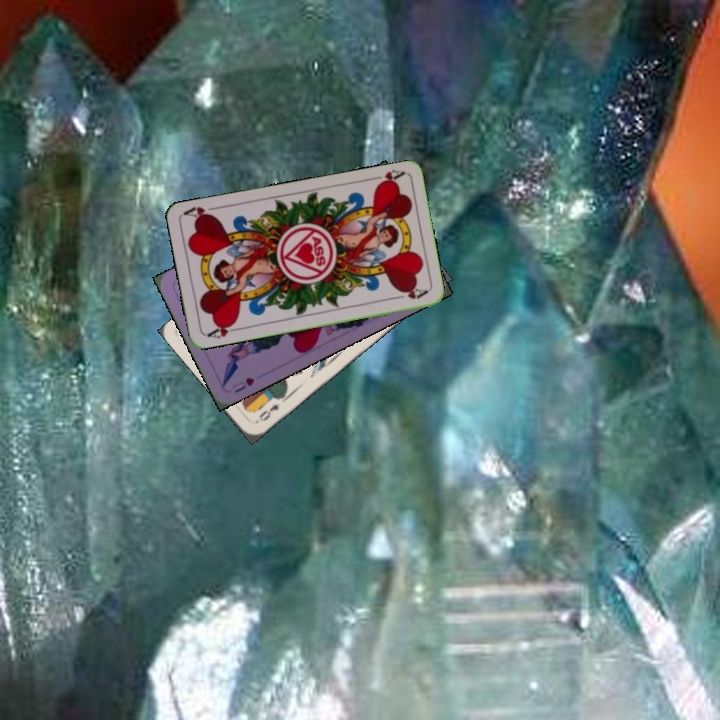EO: (252, 393, 285, 425)
HA: (366, 166, 407, 189), (203, 318, 243, 341)
HU: (228, 373, 257, 395)
